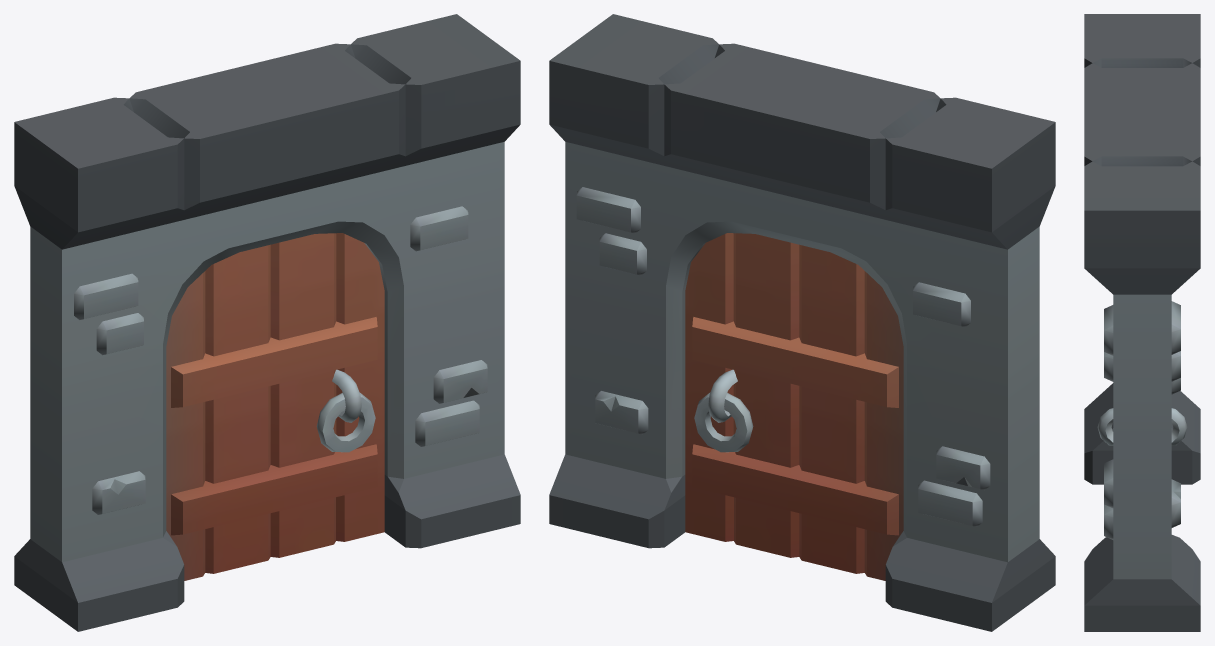
File: wall_doorway.glb
3 renders of one model, left to right at view 1: azimuth 30°, elevation 25°; view 2: azimuth 150°, elevation 25°; view 3: azimuth 270°, elevation 25°, orthographic. The views are drawn at different scales.
Parts seen in each view (by area): view 1: Cube.13132, wall_doorway_door; view 2: Cube.13132, wall_doorway_door; view 3: Cube.13132, wall_doorway_door.
Boxes of the visible parts, bbox=[...] form: Cube.13132: bbox=[14, 14, 520, 631]; wall_doorway_door: bbox=[166, 233, 384, 580]; Cube.13132: bbox=[549, 14, 1055, 631]; wall_doorway_door: bbox=[685, 233, 903, 580]; Cube.13132: bbox=[1084, 14, 1200, 631]; wall_doorway_door: bbox=[1097, 408, 1187, 445].
Size of the model in its own units: 4 by 4 by 1.
1 material, 1 textured.
